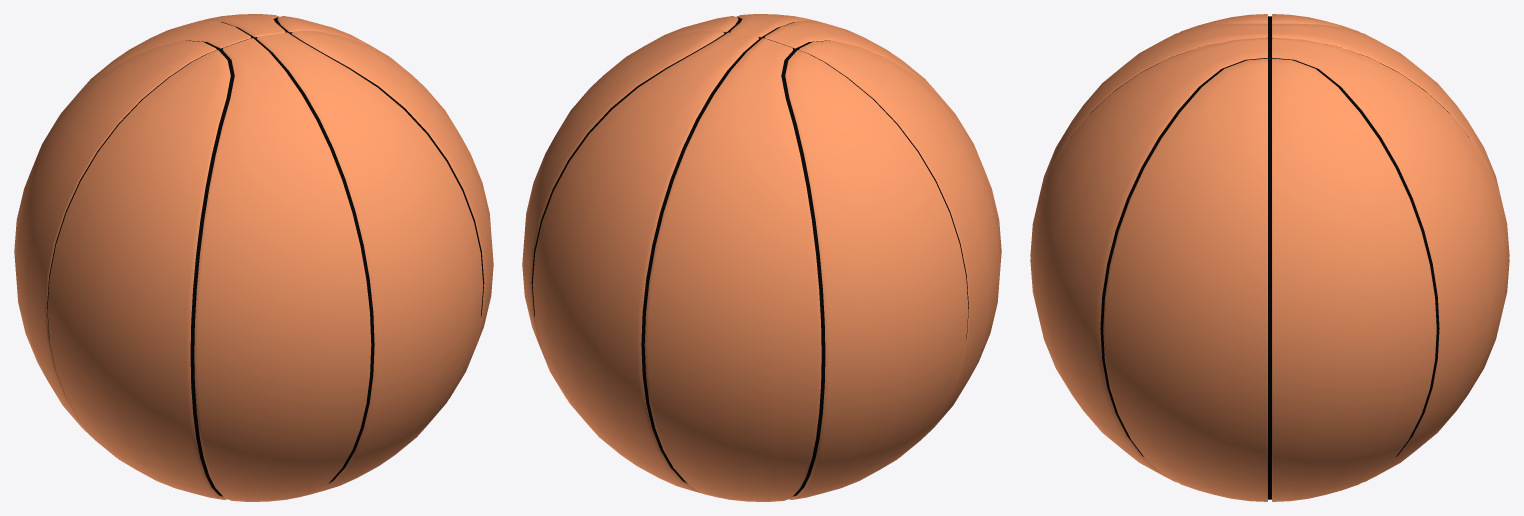
Rendered from basketball.fbx.
The picture shows the model from 3 angles, left to right: view 1: azimuth 30°, elevation 25°; view 2: azimuth 150°, elevation 25°; view 3: azimuth 270°, elevation 25°; orthographic projection.
Visible parts, largest first — view 1: pSphere1; view 2: pSphere1; view 3: pSphere1.
Part boxes in pixels (<box>): pSphere1: <box>14,14,493,501</box>; pSphere1: <box>522,14,1001,501</box>; pSphere1: <box>1030,14,1509,501</box>.
Bounding box in the file's own units: 9.7 × 9.87 × 9.68.
